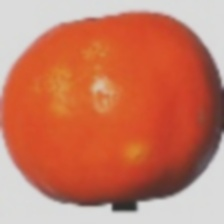tangerine: (45, 6, 218, 191)
